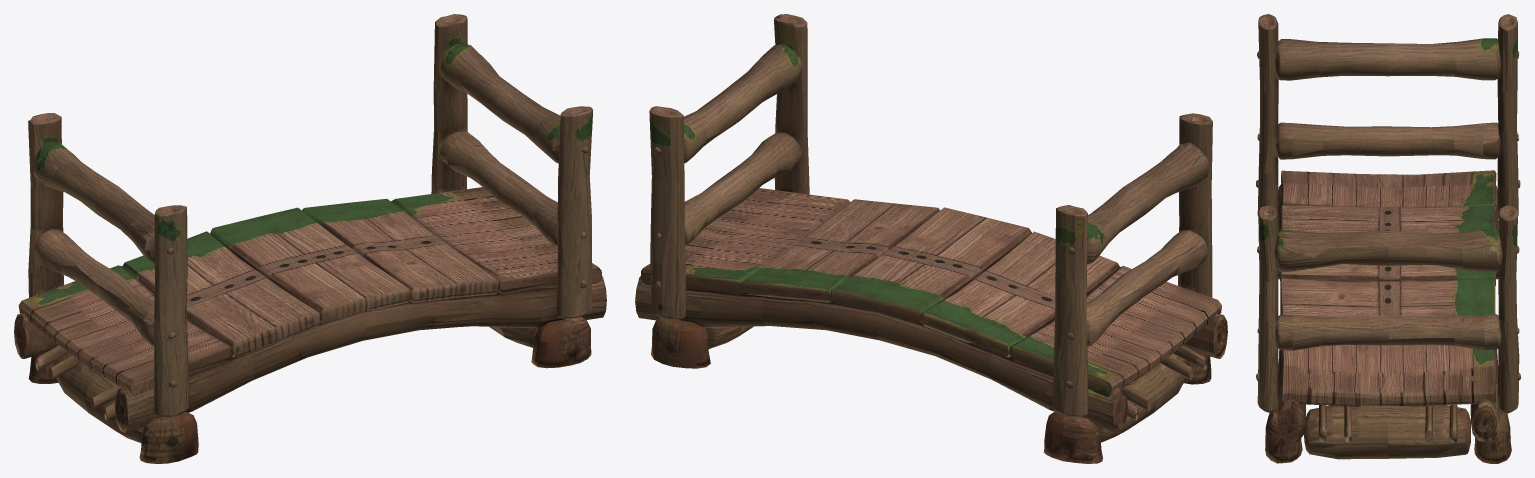
Rendered from Bridge.glb.
The picture shows the model from 3 angles, left to right: view 1: azimuth 30°, elevation 25°; view 2: azimuth 150°, elevation 25°; view 3: azimuth 270°, elevation 25°; orthographic projection. The views are drawn at different scales.
Size of the model in its own units: 4 by 2.06 by 2.
Materials: 1 (1 with a texture image).
